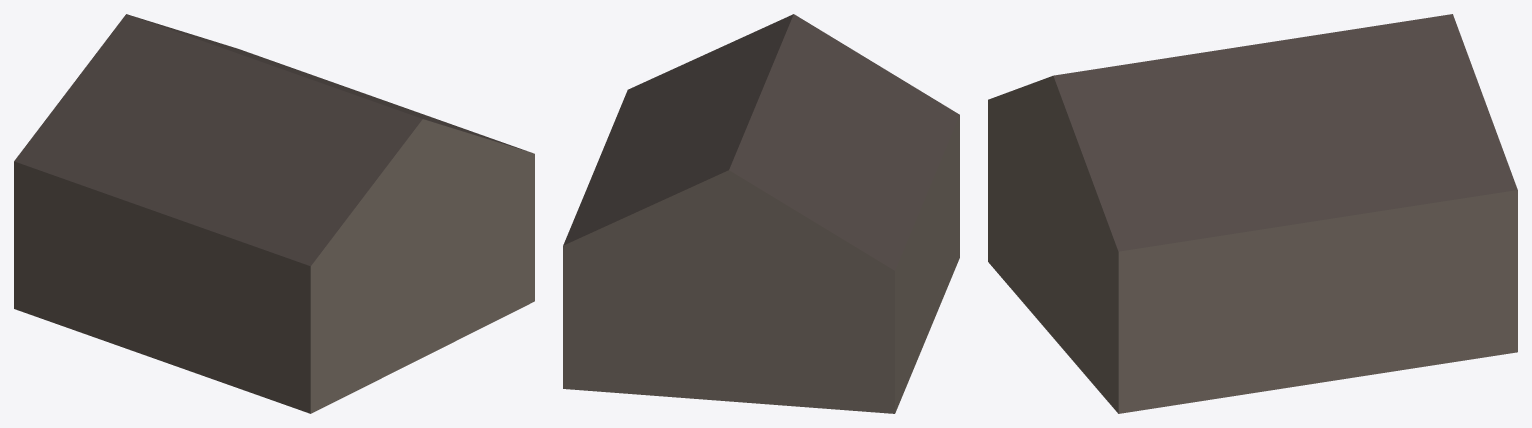
The picture shows the model from 3 angles, left to right: view 1: azimuth 30°, elevation 25°; view 2: azimuth 150°, elevation 25°; view 3: azimuth 270°, elevation 25°; orthographic projection. The views are drawn at different scales.
Parts seen in each view (by area): view 1: HP-w1376988770; view 2: HP-w1376988770; view 3: HP-w1376988770.
Boxes of the visible parts, bbox=[...] form: HP-w1376988770: bbox=[14, 14, 534, 413]; HP-w1376988770: bbox=[563, 14, 959, 413]; HP-w1376988770: bbox=[988, 14, 1517, 413].
Size of the model in its own units: 16.94 by 9.7 by 17.75.
